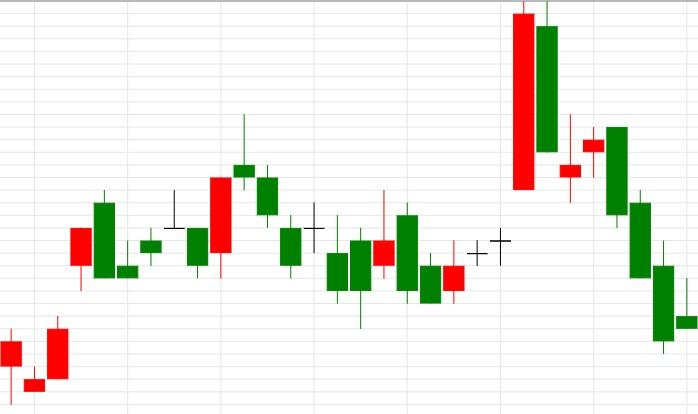evening_star_fall: (116, 114, 279, 280)
